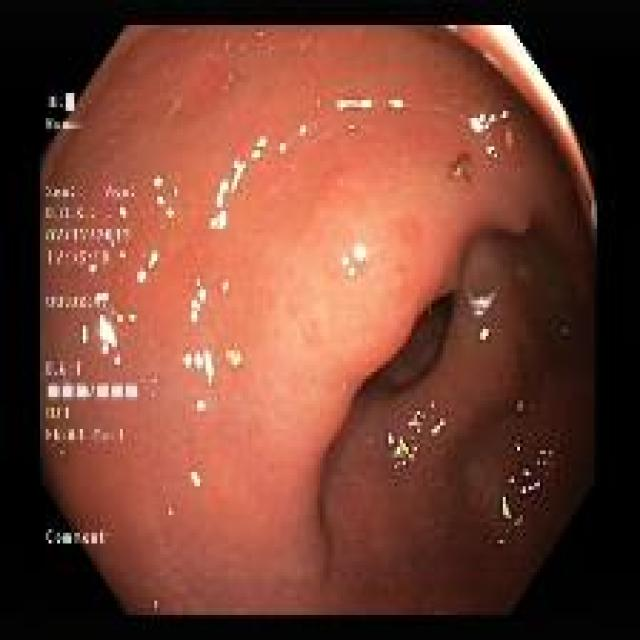ulcerative-colitis: (42, 27, 594, 614)
